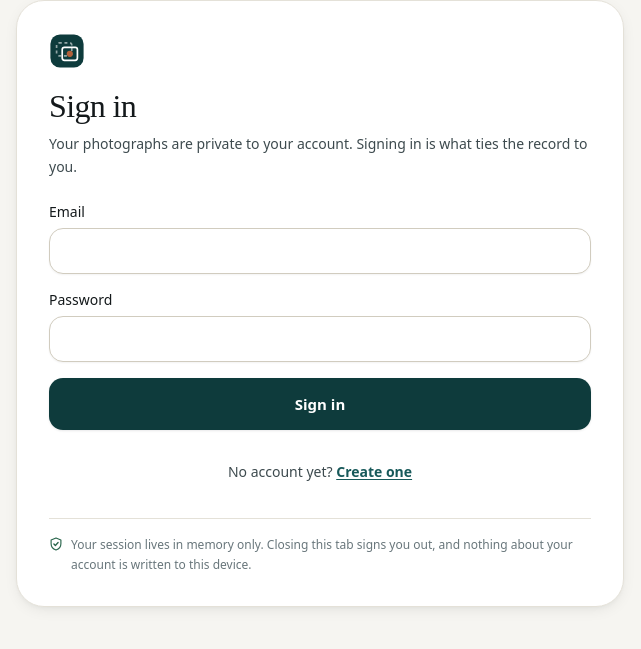
Test: SignIn — registering › can go back to signing in
The width and height of the screenshot is (641, 649).
Click the button with test id "to-sign-up": (374, 472) [336, 450, 412, 494]
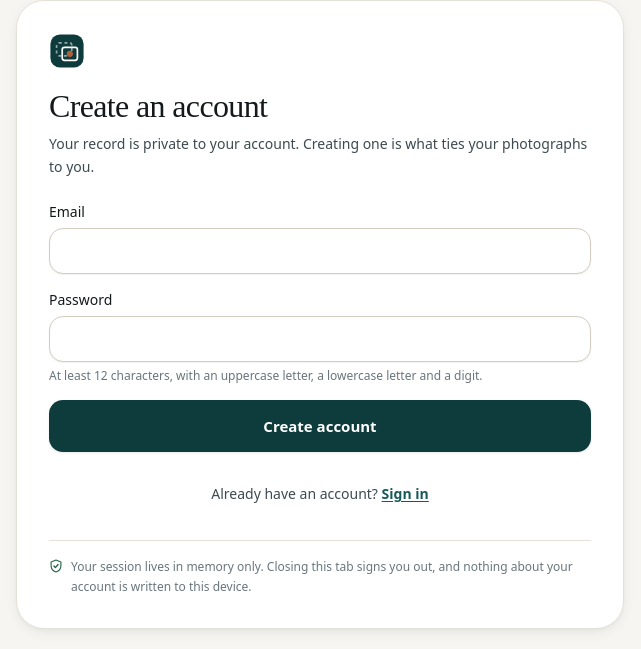
Click the button with test id "to-sign-in": (405, 494) [382, 472, 429, 516]
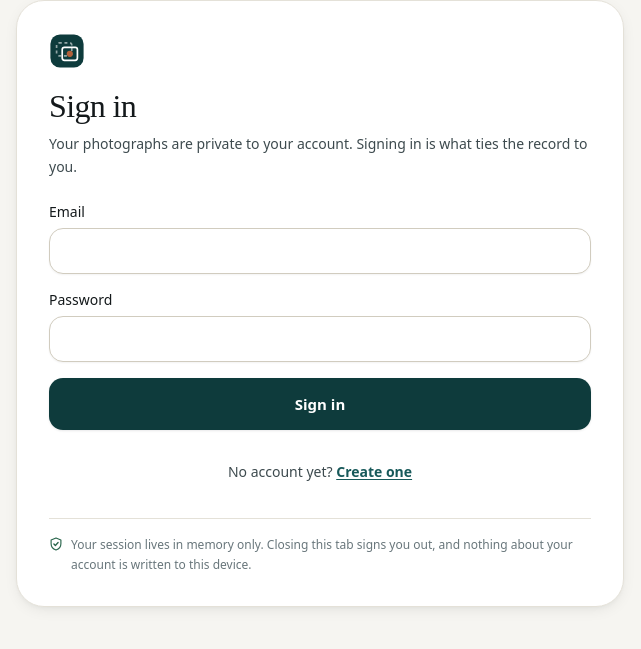
Expected: the heading reads "Sign in", [49, 88, 136, 124]
